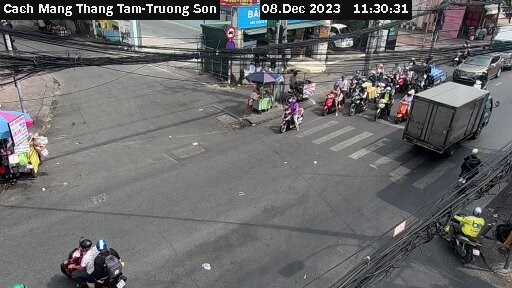car: (454, 47, 504, 88)
motorbike: (62, 239, 127, 288), (448, 208, 489, 265), (452, 145, 484, 193), (280, 99, 315, 137), (324, 88, 350, 122), (368, 90, 391, 119), (394, 91, 414, 119), (348, 89, 367, 114)
truck: (402, 79, 499, 156), (492, 27, 512, 66)
